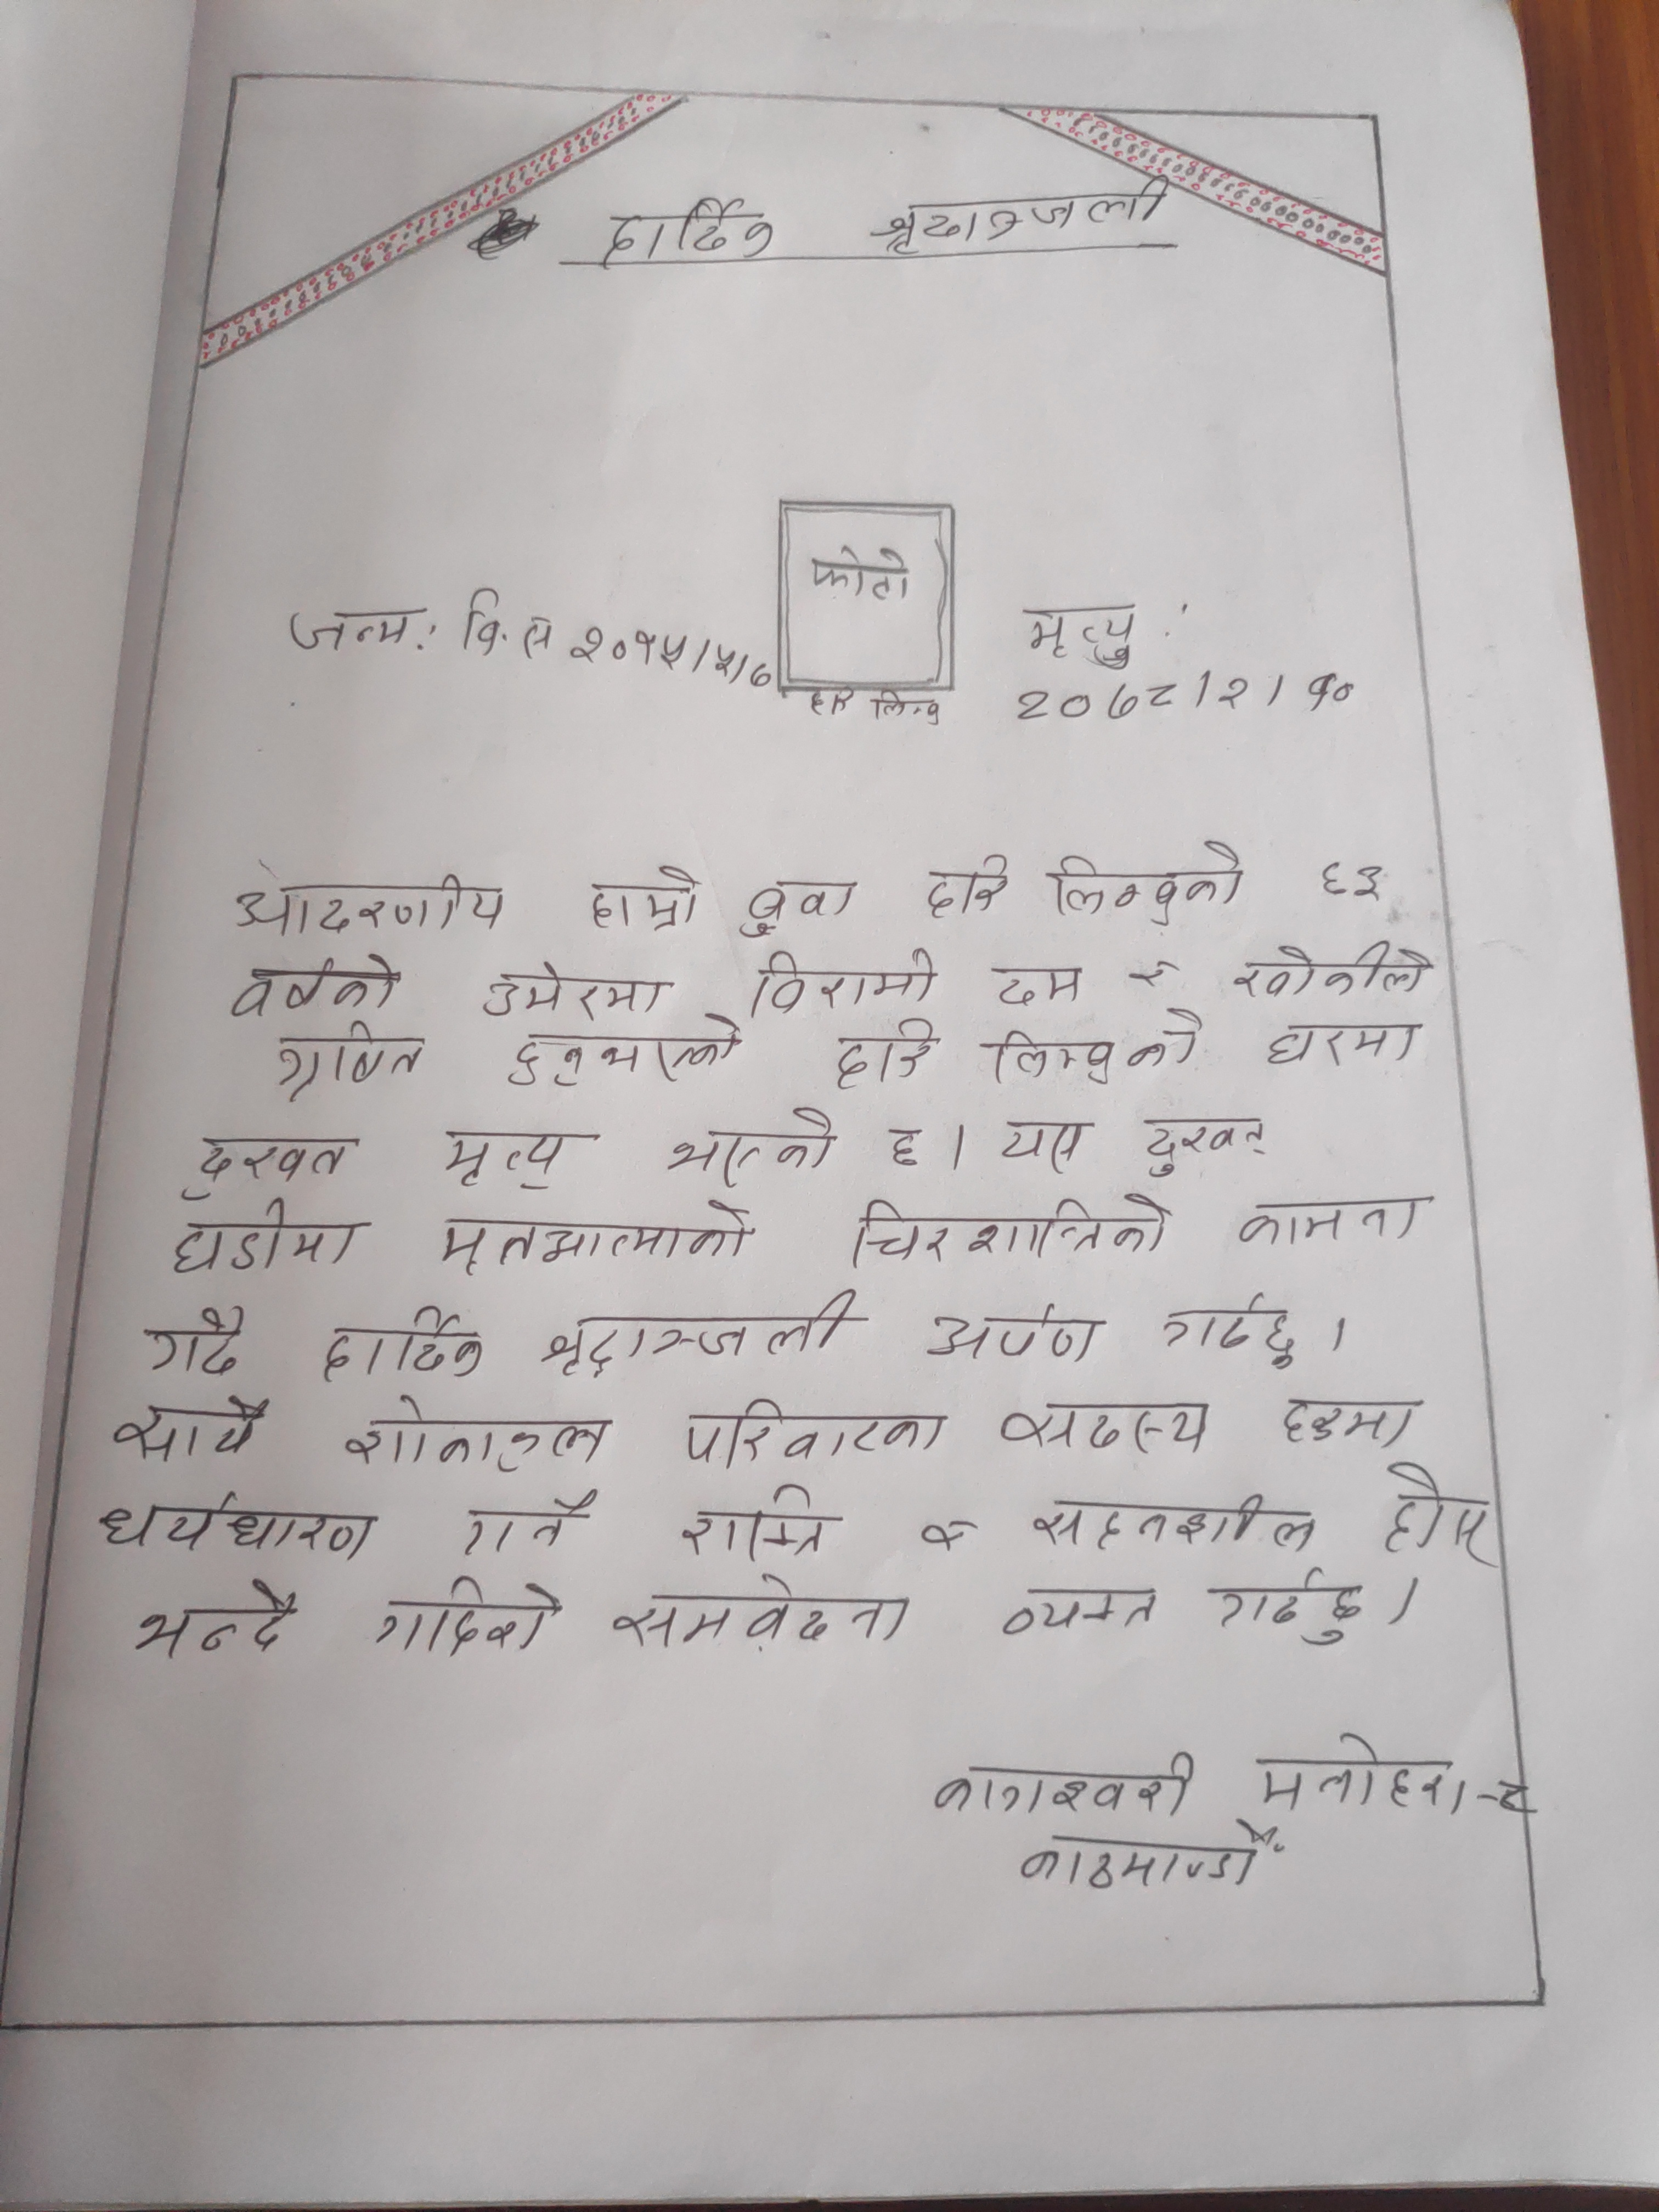text: (542, 1291, 847, 1378), (432, 1198, 762, 1278), (849, 1190, 1169, 1268), (340, 1393, 622, 1475), (610, 1575, 910, 1651), (868, 178, 1176, 251), (225, 862, 509, 939), (920, 1752, 1197, 1827), (1249, 1735, 1471, 1822), (94, 1494, 390, 1559), (1051, 836, 1251, 930), (681, 1395, 950, 1465), (1014, 1820, 1286, 1888), (1026, 1493, 1317, 1555), (983, 1015, 1208, 1092), (500, 1021, 751, 1089), (1011, 674, 1363, 721), (373, 1578, 565, 1658), (127, 1576, 305, 1662), (169, 1211, 368, 1285), (173, 1127, 366, 1202), (1211, 1562, 1377, 1649), (572, 627, 772, 697), (662, 1108, 843, 1184), (270, 1014, 425, 1099), (1155, 1285, 1298, 1378), (742, 953, 946, 1017), (683, 1480, 833, 1568), (992, 1400, 1218, 1458), (321, 1308, 497, 1381), (1236, 939, 1436, 1001), (1234, 1188, 1436, 1249), (1380, 1460, 1493, 1566), (488, 963, 671, 1026), (598, 199, 775, 263), (917, 1313, 1114, 1371), (1270, 1390, 1431, 1456), (232, 954, 401, 1017), (110, 1393, 268, 1460), (995, 1580, 1162, 1639), (457, 1489, 598, 1559), (443, 1123, 591, 1188), (586, 862, 709, 935), (1136, 1113, 1269, 1181), (1270, 1015, 1422, 1073), (1021, 601, 1143, 671), (460, 589, 559, 671), (148, 1299, 246, 1378), (284, 599, 420, 653), (737, 878, 856, 939), (807, 543, 918, 603), (979, 954, 1087, 1015), (918, 853, 1014, 920), (992, 1113, 1093, 1174), (835, 1026, 939, 1082), (810, 688, 943, 723), (913, 1510, 990, 1554), (1312, 857, 1389, 897), (1112, 951, 1185, 991), (882, 1122, 924, 1174)
